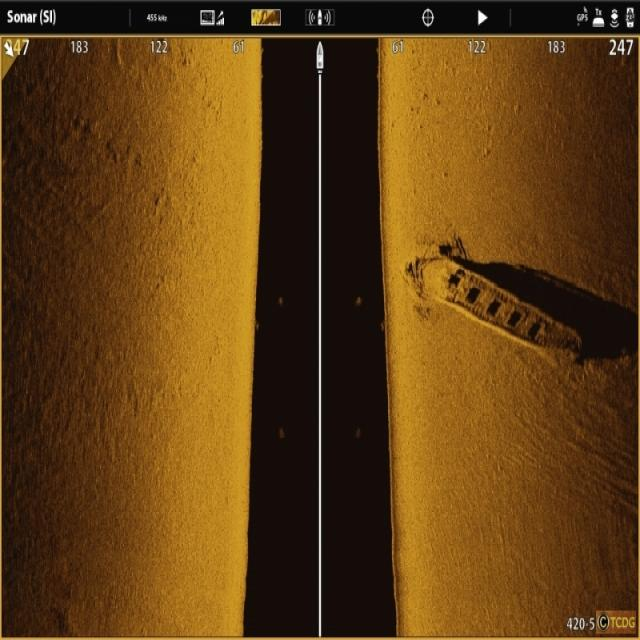ship: (407, 243, 582, 375)
